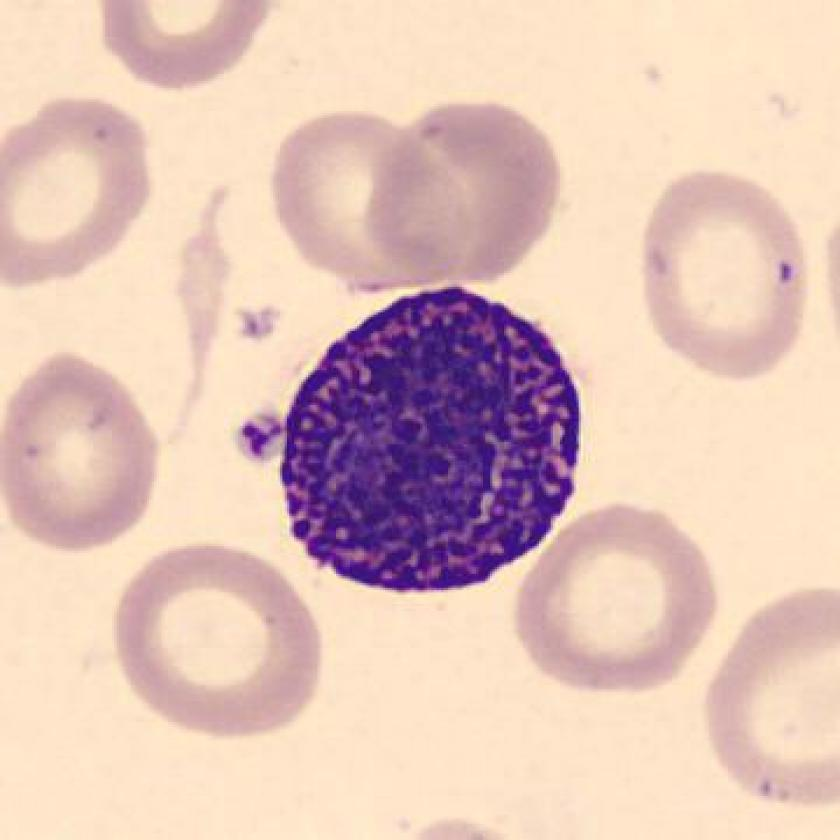basophil: (274, 276, 598, 619)
